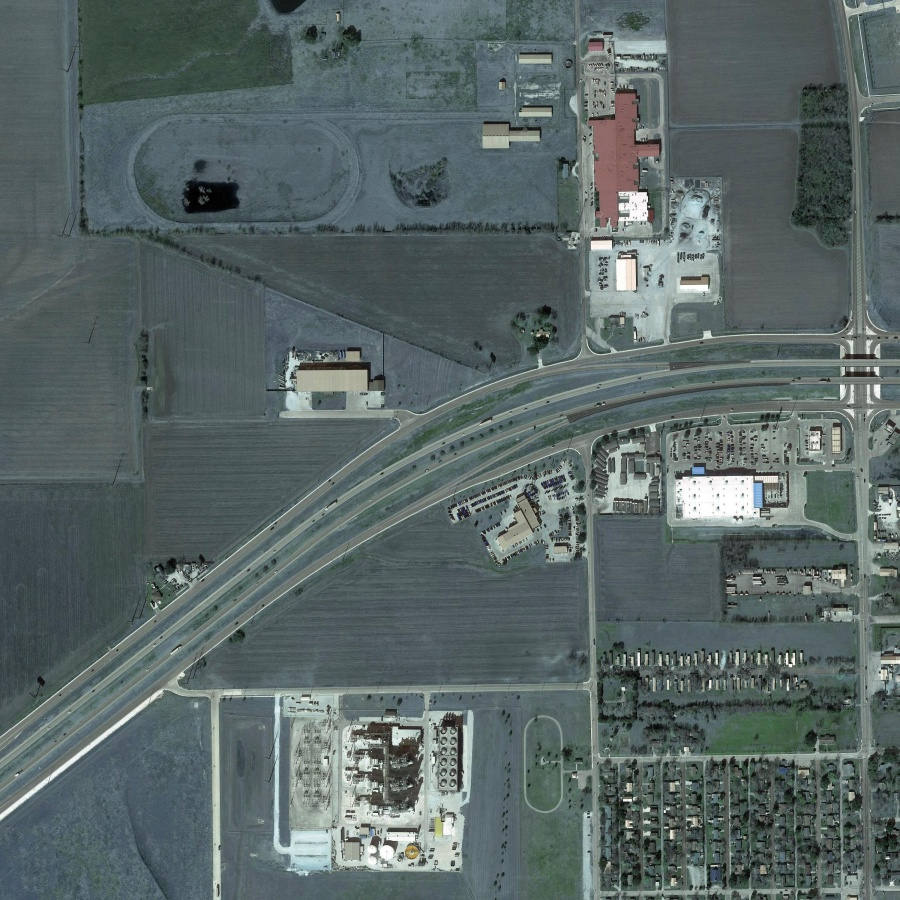PowerPlant: (276, 689, 470, 878)
